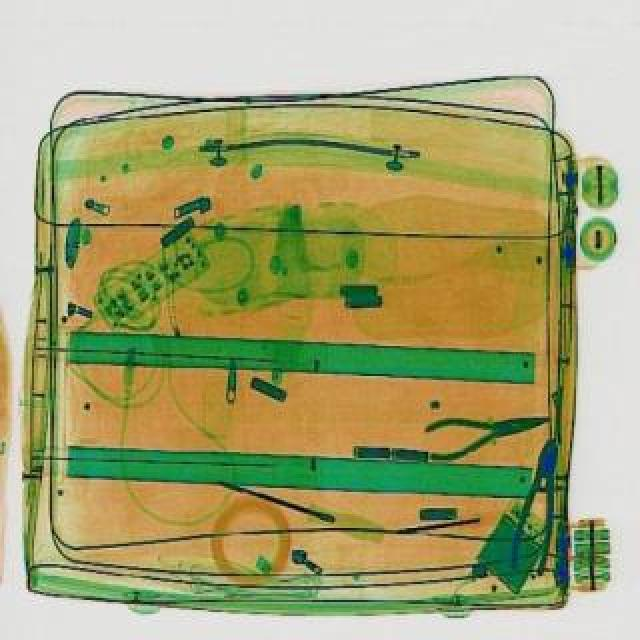wrench: (420, 396, 552, 460), (506, 438, 566, 576)
